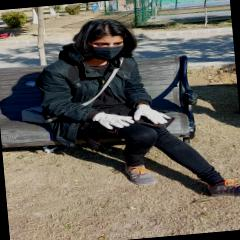gloved: (132, 102, 172, 127), (92, 110, 134, 132)
